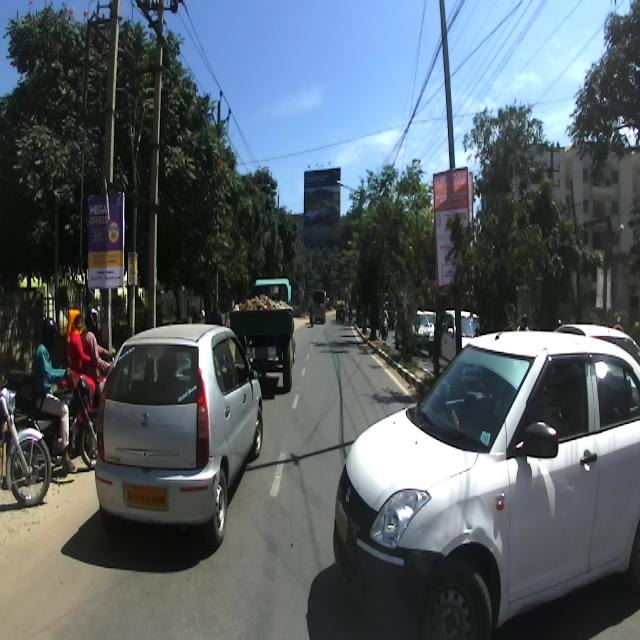car ahead at: (332, 313, 640, 640), (88, 314, 261, 552)
motorcycle ahead at: (0, 386, 54, 521)
